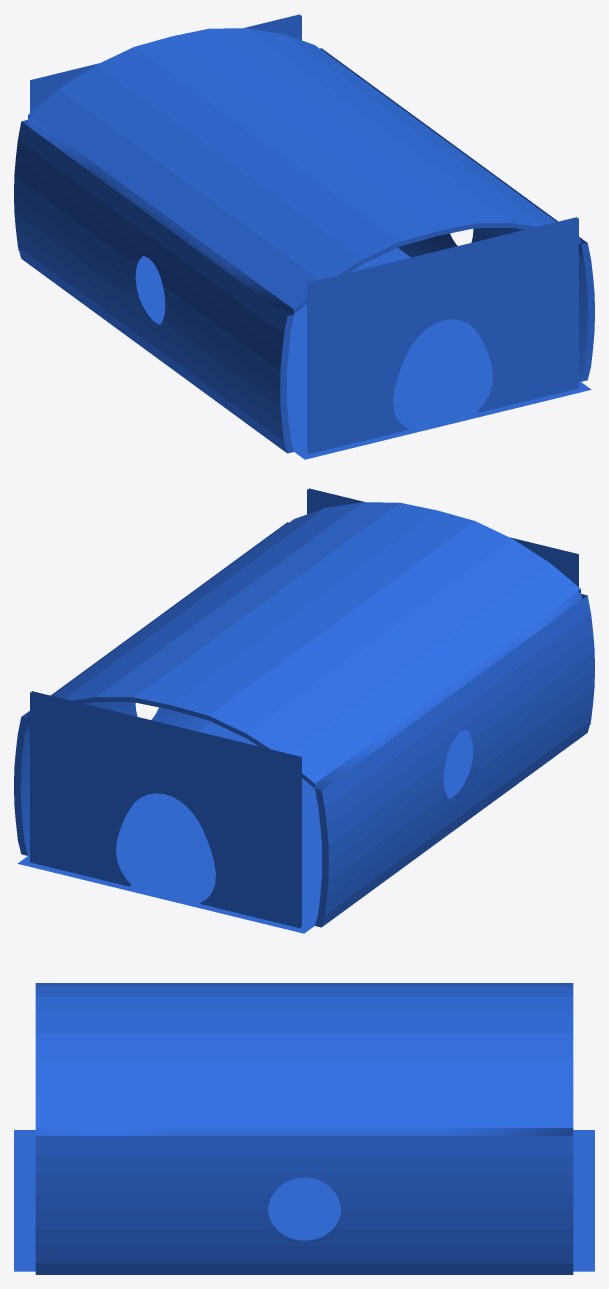
Rendered from SpaceShip_Blocking_Col.fbx.
3 renders of one model, top to bottom at view 1: azimuth 30°, elevation 25°; view 2: azimuth 150°, elevation 25°; view 3: azimuth 270°, elevation 25°, orthographic.
Parts seen in each view (by area): view 1: Wall.006, DoorWall; view 2: Wall.006, DoorWall; view 3: Wall.006.
Part boxes in pixels (x1,y1,x2,y2): Wall.006: (14, 28, 594, 459); DoorWall: (30, 14, 578, 454); Wall.006: (14, 502, 594, 933); DoorWall: (30, 488, 578, 928); Wall.006: (14, 983, 594, 1274).
Bounding box in the file's own units: 1770 × 997 × 2800.
